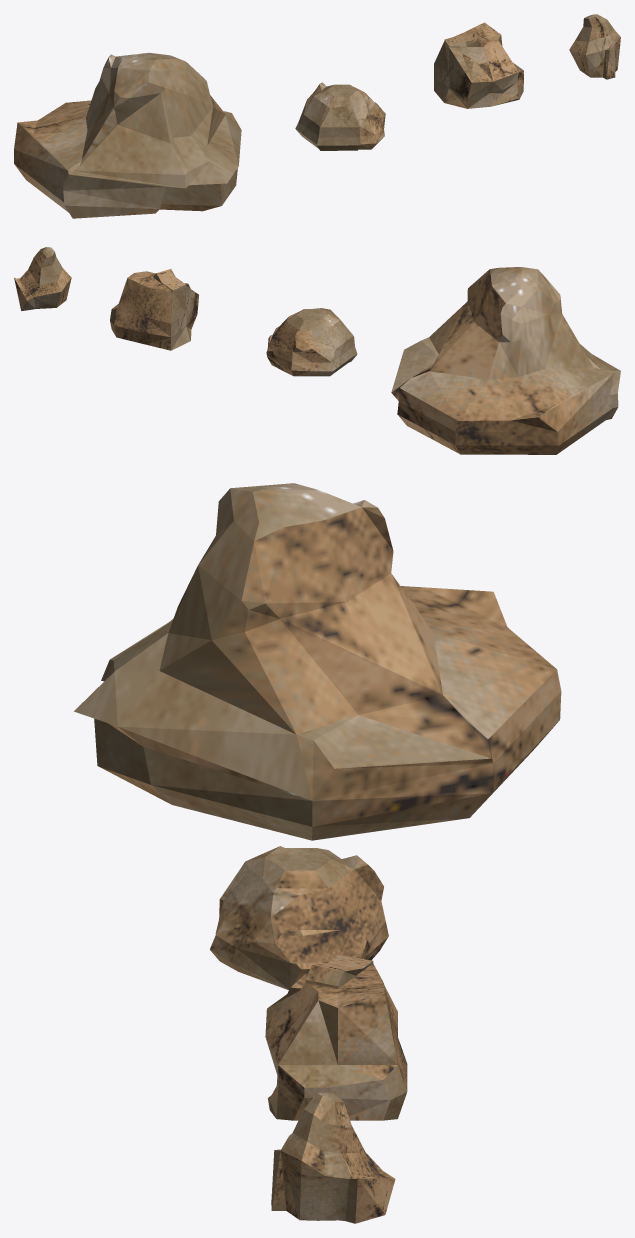
Rendered from Stone_Set.fbx.
The picture shows the model from 3 angles, top to bottom: view 1: azimuth 30°, elevation 25°; view 2: azimuth 150°, elevation 25°; view 3: azimuth 270°, elevation 25°; orthographic projection. The views are drawn at different scales.
Visible parts, largest first — view 1: Stone_A_Standard, Stone_B_Standard, Stone_C_Standard, Stone_D_Standard; view 2: Stone_A_Standard, Stone_B_Standard, Stone_C_Standard, Stone_D_Standard; view 3: Stone_A_Standard, Stone_C_Standard, Stone_B_Standard, Stone_D_Standard.
Boxes of the visible parts, x1,y1,x2,y2 form: Stone_A_Standard: (14,52,241,218); Stone_B_Standard: (434,22,523,108); Stone_C_Standard: (295,82,385,150); Stone_D_Standard: (569,14,620,79); Stone_A_Standard: (391,267,620,454); Stone_B_Standard: (110,269,198,350); Stone_C_Standard: (266,308,357,376); Stone_D_Standard: (14,247,71,310); Stone_A_Standard: (74,483,561,840); Stone_C_Standard: (210,846,388,990); Stone_B_Standard: (265,955,407,1120); Stone_D_Standard: (271,1092,395,1223).
Bounding box in the file's own units: 17.92 × 3.99 × 6.58.
